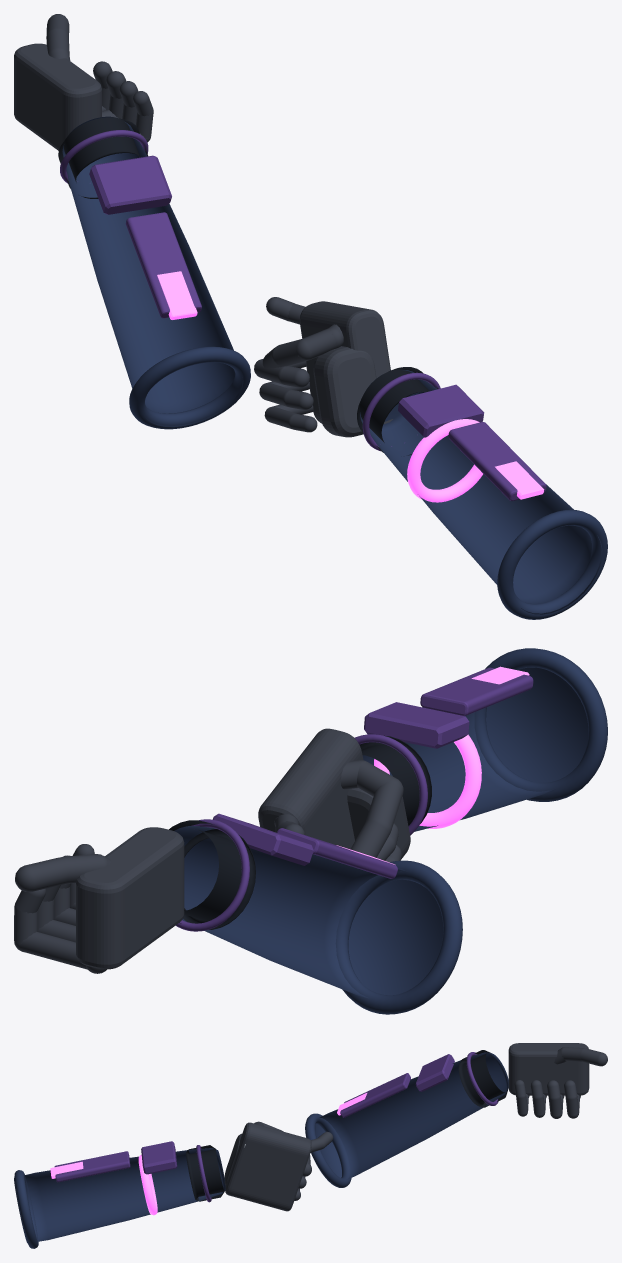
Rendered from hands_tempest.glb.
3 renders of one model, top to bottom at view 1: azimuth 30°, elevation 25°; view 2: azimuth 150°, elevation 25°; view 3: azimuth 270°, elevation 25°, orthographic. The views are drawn at different scales.
Visible parts, largest first — view 1: hand_l_forearm, hand_r_forearm, hand_l_palm, hand_r_sleeve_roll, hand_l_sleeve_roll, hand_r_heel, hand_r_palm, hand_l_cuff_plate, hand_l_forearm_plate, hand_r_forearm_plate, hand_r_cuff_plate, hand_l_cuff (+11 smaller); view 2: hand_l_forearm, hand_r_forearm, hand_l_palm, hand_r_palm, hand_l_sleeve_roll, hand_r_sleeve_roll, hand_l_cuff, hand_r_cuff_plate, hand_r_thumb, hand_r_forearm_plate, hand_l_finger3, hand_l_thumb (+10 smaller); view 3: hand_l_forearm, hand_r_forearm, hand_r_palm, hand_l_palm, hand_l_sleeve_roll, hand_r_cuff, hand_l_cuff, hand_r_forearm_plate, hand_r_sleeve_roll, hand_l_forearm_plate, hand_r_cuff_plate, hand_l_cuff_plate (+8 smaller).
Part boxes in pixels (box(x1,y1,x2,y2)): hand_l_forearm: box(62, 116, 243, 427); hand_r_forearm: box(360, 370, 602, 614); hand_l_palm: box(14, 43, 101, 150); hand_r_sleeve_roll: box(497, 509, 607, 619); hand_l_sleeve_roll: box(129, 346, 250, 429); hand_r_heel: box(313, 346, 376, 437); hand_r_palm: box(299, 301, 392, 424); hand_l_cuff_plate: box(89, 155, 171, 214); hand_l_forearm_plate: box(125, 212, 201, 318); hand_r_forearm_plate: box(448, 422, 546, 501); hand_r_cuff_plate: box(398, 384, 484, 437); hand_l_cuff: box(58, 117, 147, 198); hand_l_forearm: box(174, 826, 443, 998); hand_r_forearm: box(362, 664, 588, 831); hand_l_palm: box(76, 827, 184, 969); hand_r_palm: box(258, 728, 363, 849); hand_l_sleeve_roll: box(335, 860, 462, 1014); hand_r_sleeve_roll: box(474, 648, 607, 801); hand_l_cuff: box(169, 820, 255, 929); hand_r_cuff_plate: box(364, 702, 469, 748); hand_r_thumb: box(340, 760, 403, 857); hand_r_forearm_plate: box(420, 667, 533, 715); hand_l_finger3: box(14, 888, 87, 969); hand_l_thumb: box(15, 854, 111, 891); hand_l_forearm: box(315, 1052, 508, 1179); hand_r_forearm: box(14, 1148, 225, 1242); hand_r_palm: box(225, 1122, 311, 1211); hand_l_palm: box(508, 1043, 589, 1095); hand_l_sleeve_roll: box(305, 1113, 351, 1187); hand_r_cuff: box(186, 1145, 224, 1201); hand_l_cuff: box(458, 1050, 508, 1107); hand_r_forearm_plate: box(54, 1151, 130, 1182); hand_r_sleeve_roll: box(14, 1170, 38, 1248); hand_l_forearm_plate: box(340, 1073, 410, 1117); hand_r_cuff_plate: box(141, 1141, 177, 1174); hand_l_cuff_plate: box(415, 1054, 454, 1091).
Size of the model in its own units: 0.2032 by 0.2363 by 0.708.
